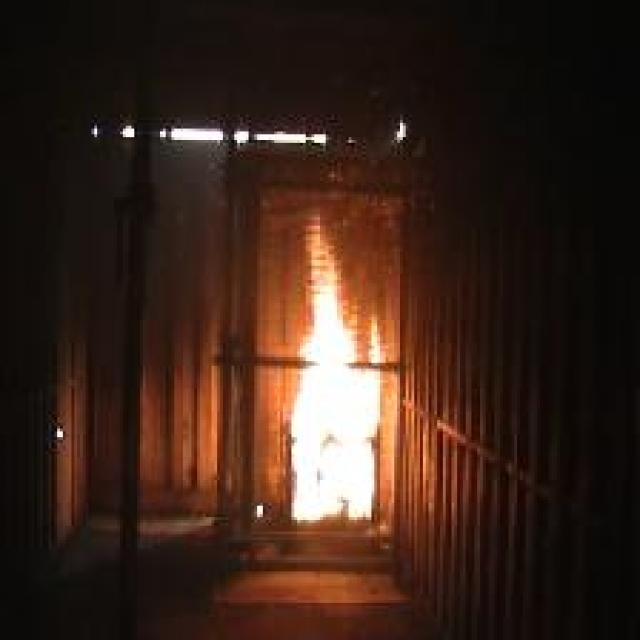Fire: (289, 216, 382, 522)
